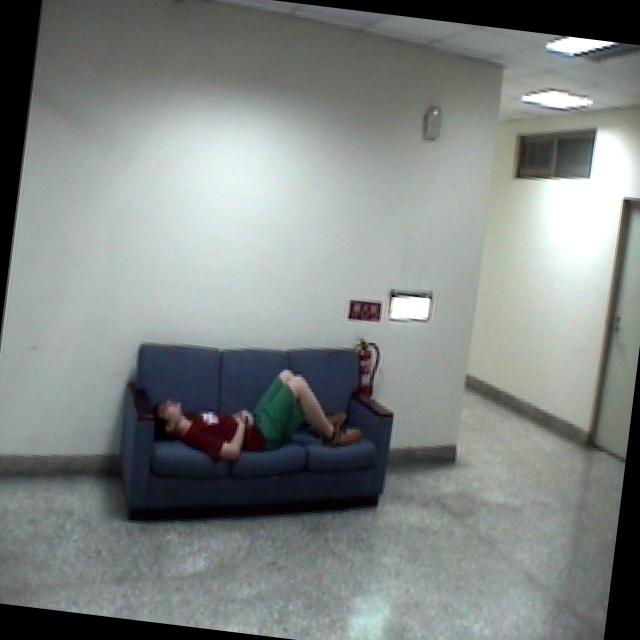lie: (140, 352, 369, 487)
